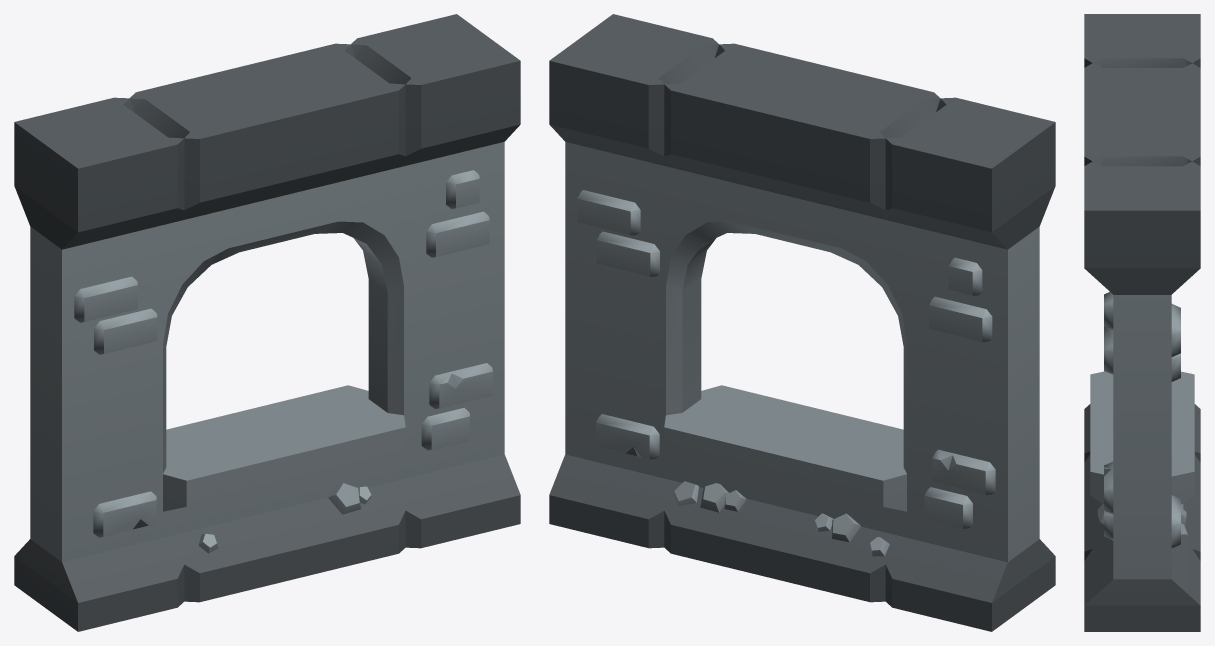
Rendered from wall_archedwindow_open.glb.
3 renders of one model, left to right at view 1: azimuth 30°, elevation 25°; view 2: azimuth 150°, elevation 25°; view 3: azimuth 270°, elevation 25°, orthographic. The views are drawn at different scales.
Parts seen in each view (by area): view 1: wall_archedwindow_open; view 2: wall_archedwindow_open; view 3: wall_archedwindow_open.
Part boxes in pixels (x1,y1,x2,y2): wall_archedwindow_open: [14, 14, 520, 631]; wall_archedwindow_open: [549, 14, 1055, 631]; wall_archedwindow_open: [1084, 14, 1200, 631].
Size of the model in its own units: 2 by 2 by 0.5.
Materials: 1 (1 with a texture image).
